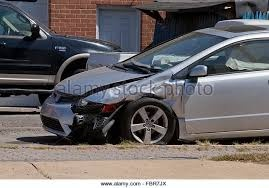Broken-glass: (72, 96, 120, 119)
Dent: (128, 77, 183, 104)
